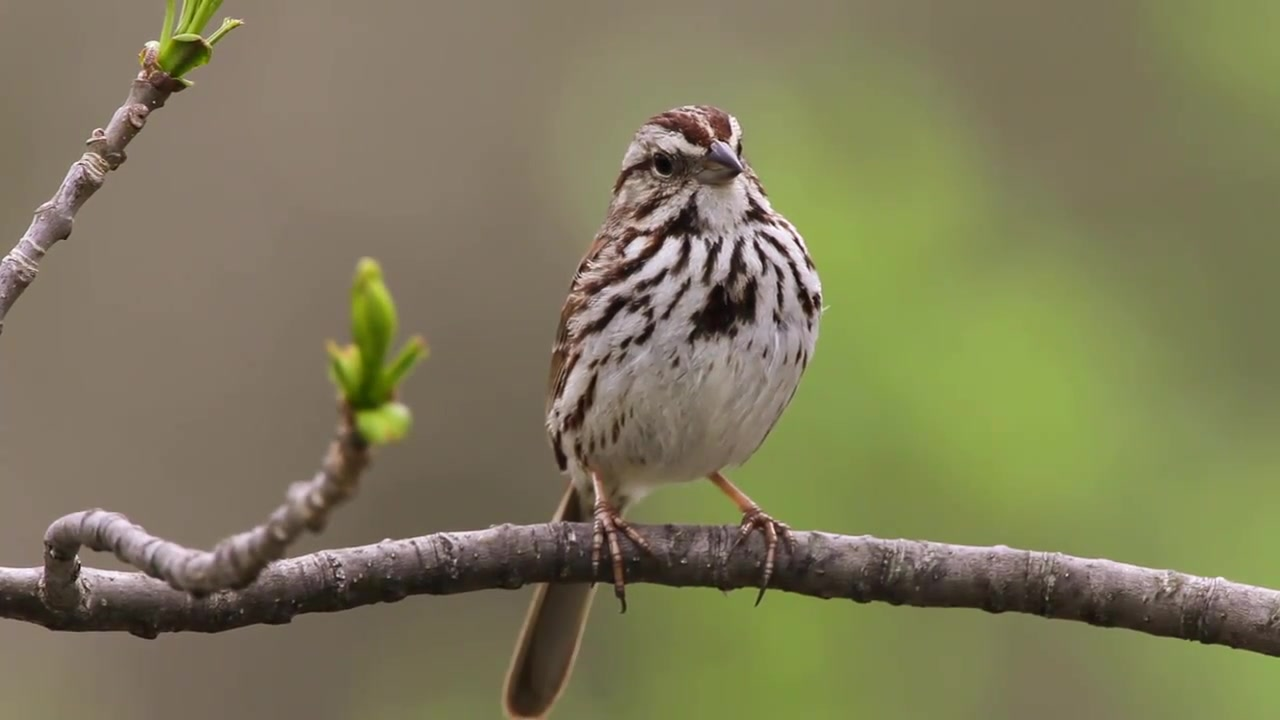bird: (502, 103, 824, 720)
